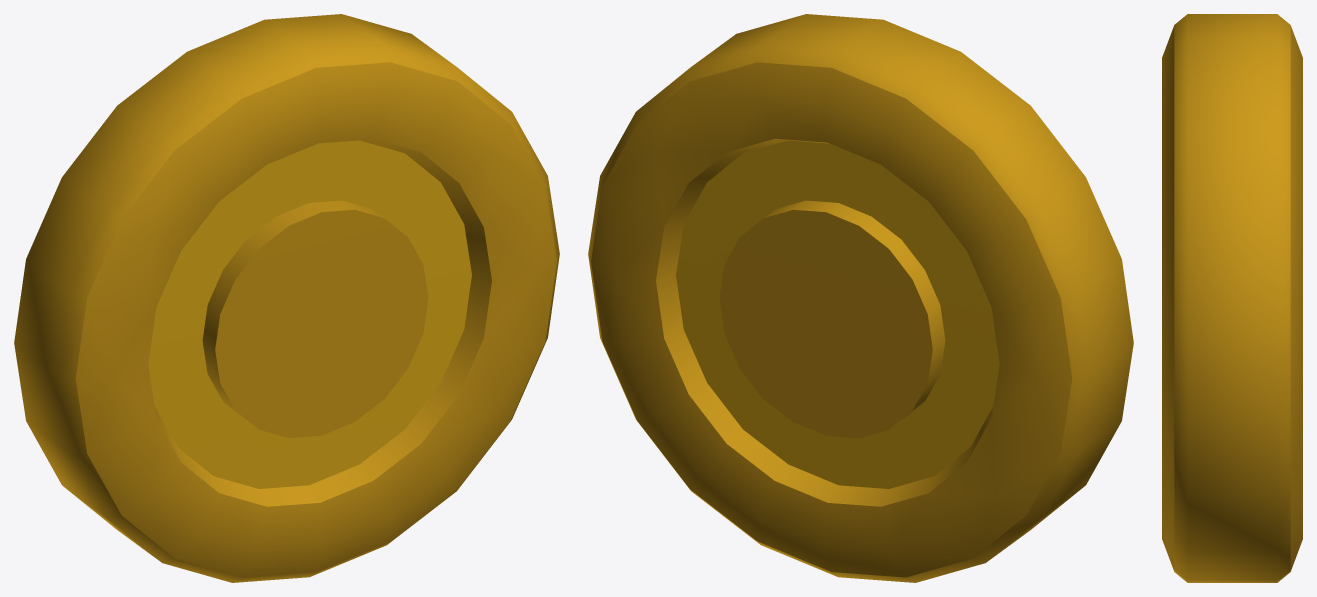
File: Coin.fbx
3 views of the same model, side by side, from view 1: azimuth 30°, elevation 25°; view 2: azimuth 150°, elevation 25°; view 3: azimuth 270°, elevation 25° (orthographic).
Visible parts, largest first — view 1: Coin; view 2: Coin; view 3: Coin.
Part boxes in pixels (x1,y1,x2,y2): Coin: [14, 14, 559, 582]; Coin: [588, 14, 1133, 582]; Coin: [1162, 14, 1302, 582].
Bounding box in the file's own units: 257 × 258 × 63.27.
